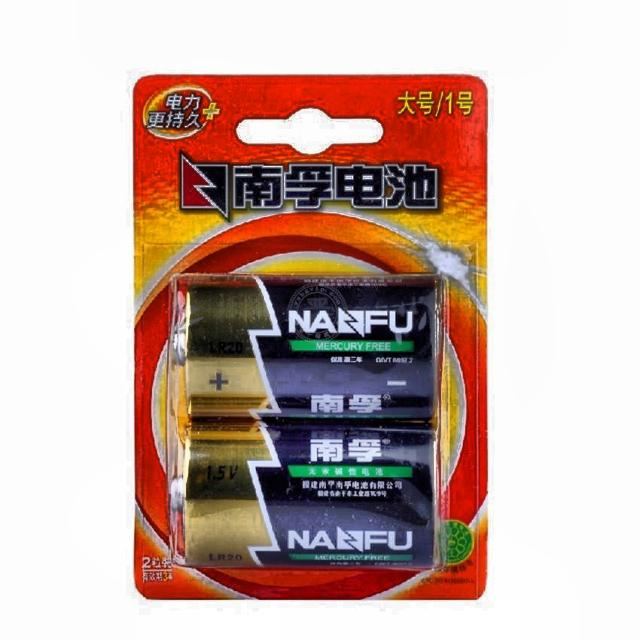Non-Valuable Waste - Batteries: (178, 277, 438, 567)
